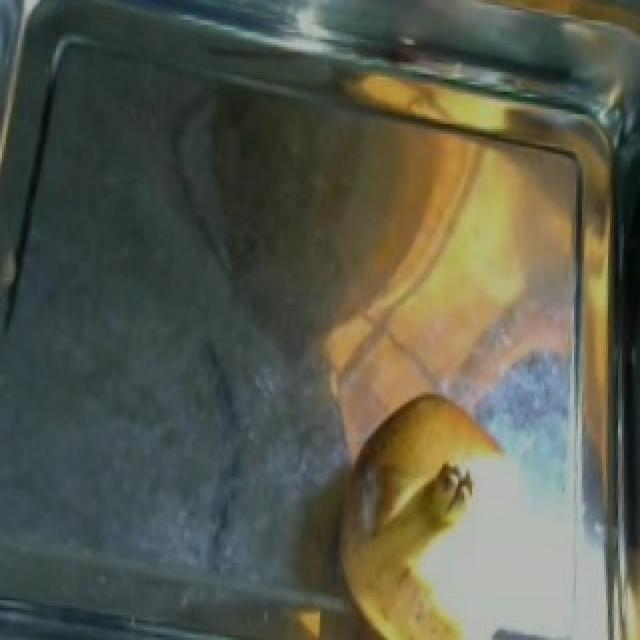fruit: (344, 377, 530, 588)
